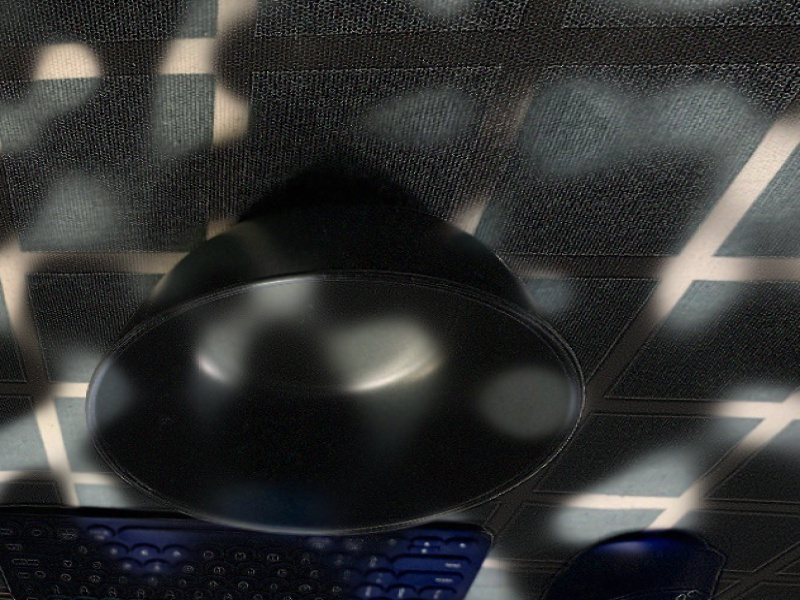bowl_big: (68, 188, 625, 554)
